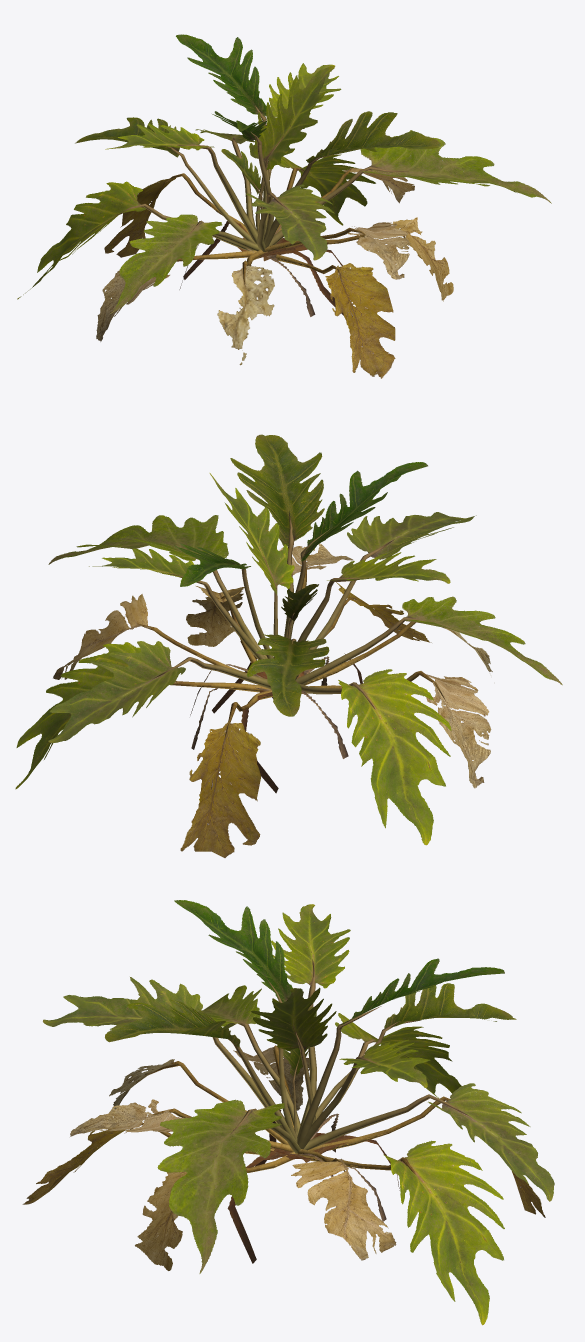
The model's file is Plant_B.FBX.
3 renders of one model, top to bottom at view 1: azimuth 30°, elevation 25°; view 2: azimuth 150°, elevation 25°; view 3: azimuth 270°, elevation 25°, orthographic. The views are drawn at different scales.
Visible parts, largest first — view 1: Geometry_Plant_E_01_LOD00; view 2: Geometry_Plant_E_01_LOD00; view 3: Geometry_Plant_E_01_LOD00.
Part boxes in pixels (<box>): Geometry_Plant_E_01_LOD00: <box>17,34,551,378</box>; Geometry_Plant_E_01_LOD00: <box>15,434,562,857</box>; Geometry_Plant_E_01_LOD00: <box>22,900,554,1325</box>.
Size of what is drawn, in the model's own units: 71.77 by 37.43 by 62.26.
